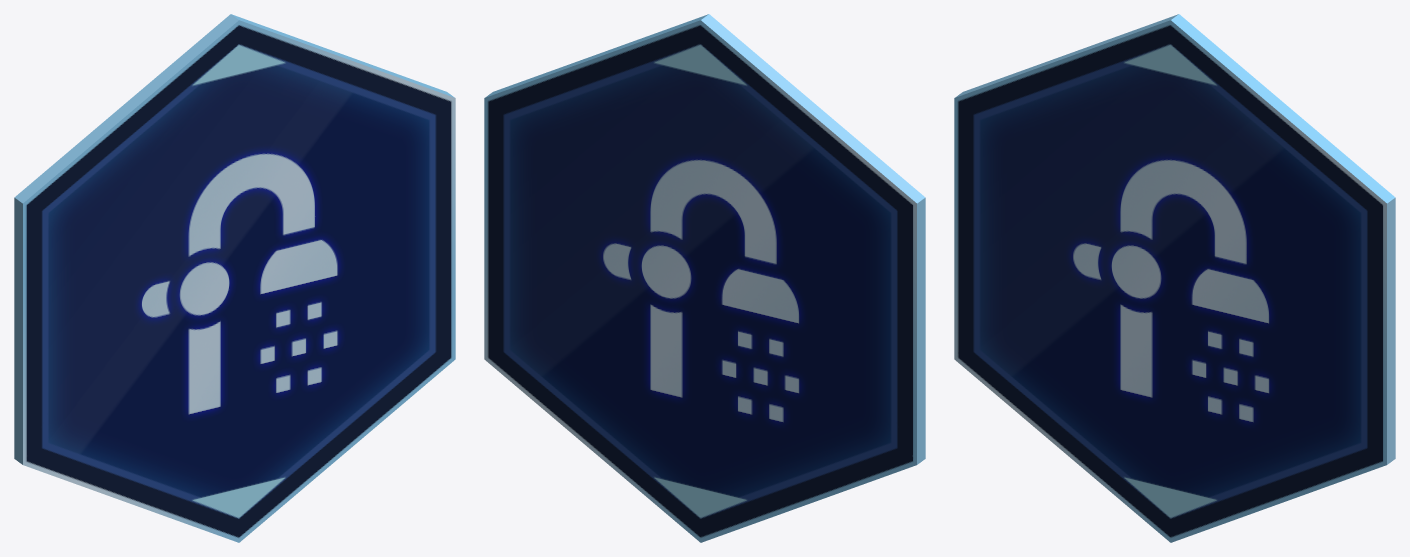
Rendered from Marker_SafetyShower.gltf.
3 renders of one model, left to right at view 1: azimuth 30°, elevation 25°; view 2: azimuth 150°, elevation 25°; view 3: azimuth 330°, elevation 25°, orthographic.
Parts seen in each view (by area): view 1: MarkerSafetyShower_A; view 2: MarkerSafetyShower_A; view 3: MarkerSafetyShower_A.
Boxes of the visible parts, left/top/right/bottom form: MarkerSafetyShower_A: left=14, top=14, right=455, bottom=542; MarkerSafetyShower_A: left=484, top=14, right=925, bottom=542; MarkerSafetyShower_A: left=954, top=14, right=1395, bottom=542.
Bounding box in the file's own units: 5.94 × 6.86 × 0.2003.
1 material, 1 textured.
